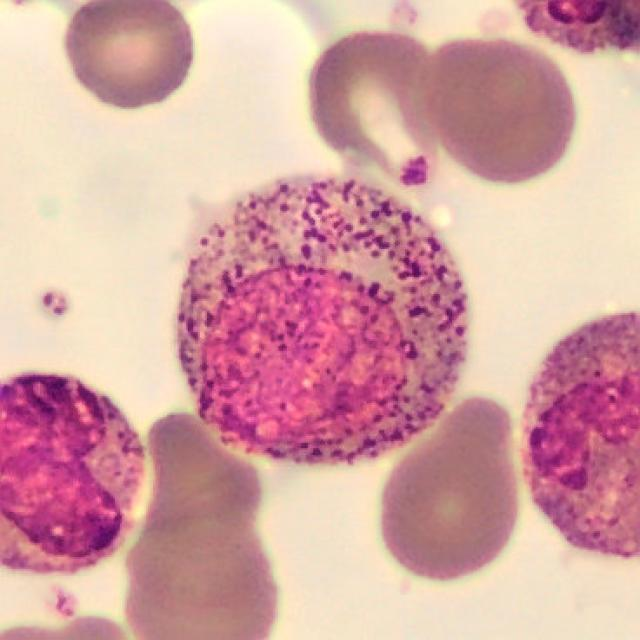Promielocito: (176, 176, 470, 467)
